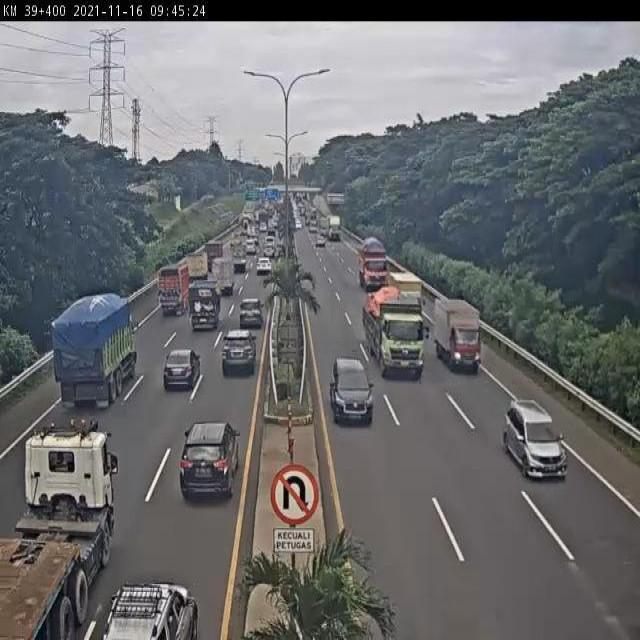car: (102, 578, 204, 640), (502, 396, 571, 481), (174, 420, 242, 503), (328, 353, 375, 427), (221, 326, 259, 378), (164, 348, 201, 392), (238, 296, 263, 335)
truck-l-: (52, 293, 140, 411)
truck-m-: (360, 284, 431, 381), (431, 297, 484, 373), (186, 273, 222, 336), (157, 263, 191, 316)
truck-xl-: (0, 418, 117, 640)
